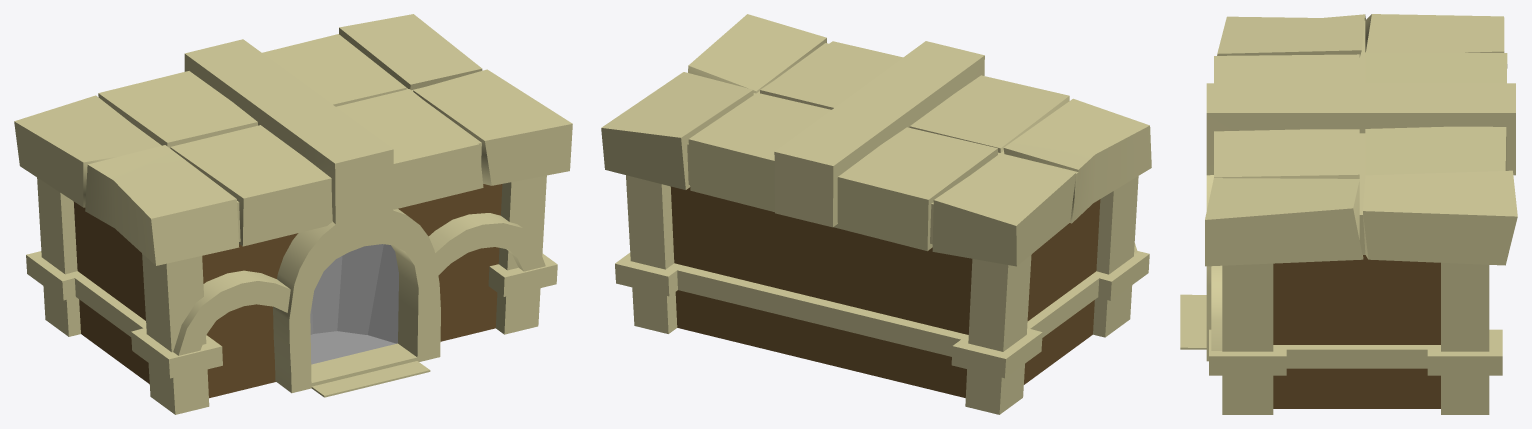
Rendered from Marin_hous.fbx.
3 views of the same model, side by side, from view 1: azimuth 30°, elevation 25°; view 2: azimuth 150°, elevation 25°; view 3: azimuth 270°, elevation 25° (orthographic). The views are drawn at different scales.
Parts seen in each view (by area): view 1: group1, pPlane1; view 2: group1; view 3: group1.
Boxes of the visible parts, x1,y1,x2,y2 form: group1: (14, 14, 572, 414); pPlane1: (310, 331, 395, 364); group1: (601, 14, 1151, 414); group1: (1180, 14, 1517, 414).
Bounding box in the file's own units: 590 × 301 × 406.
